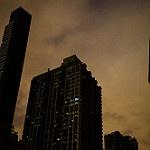building: (21, 53, 104, 149)
